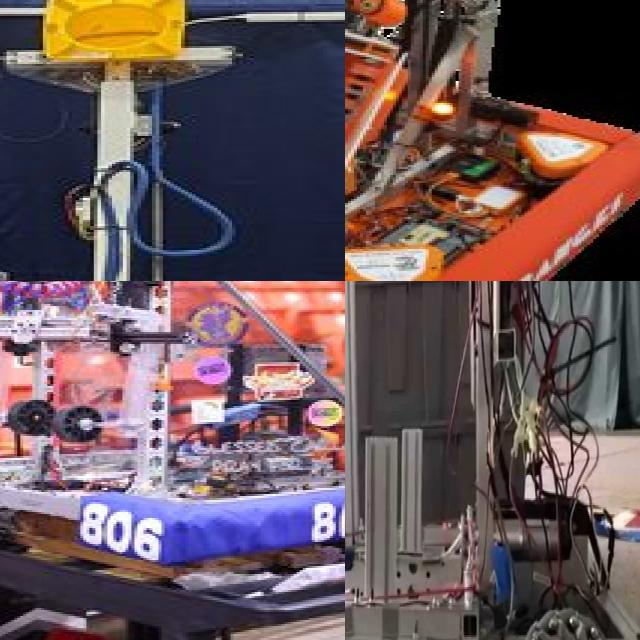FRC-Robots: (0, 281, 345, 598), (345, 281, 640, 640), (0, 0, 345, 281), (345, 0, 640, 281)
